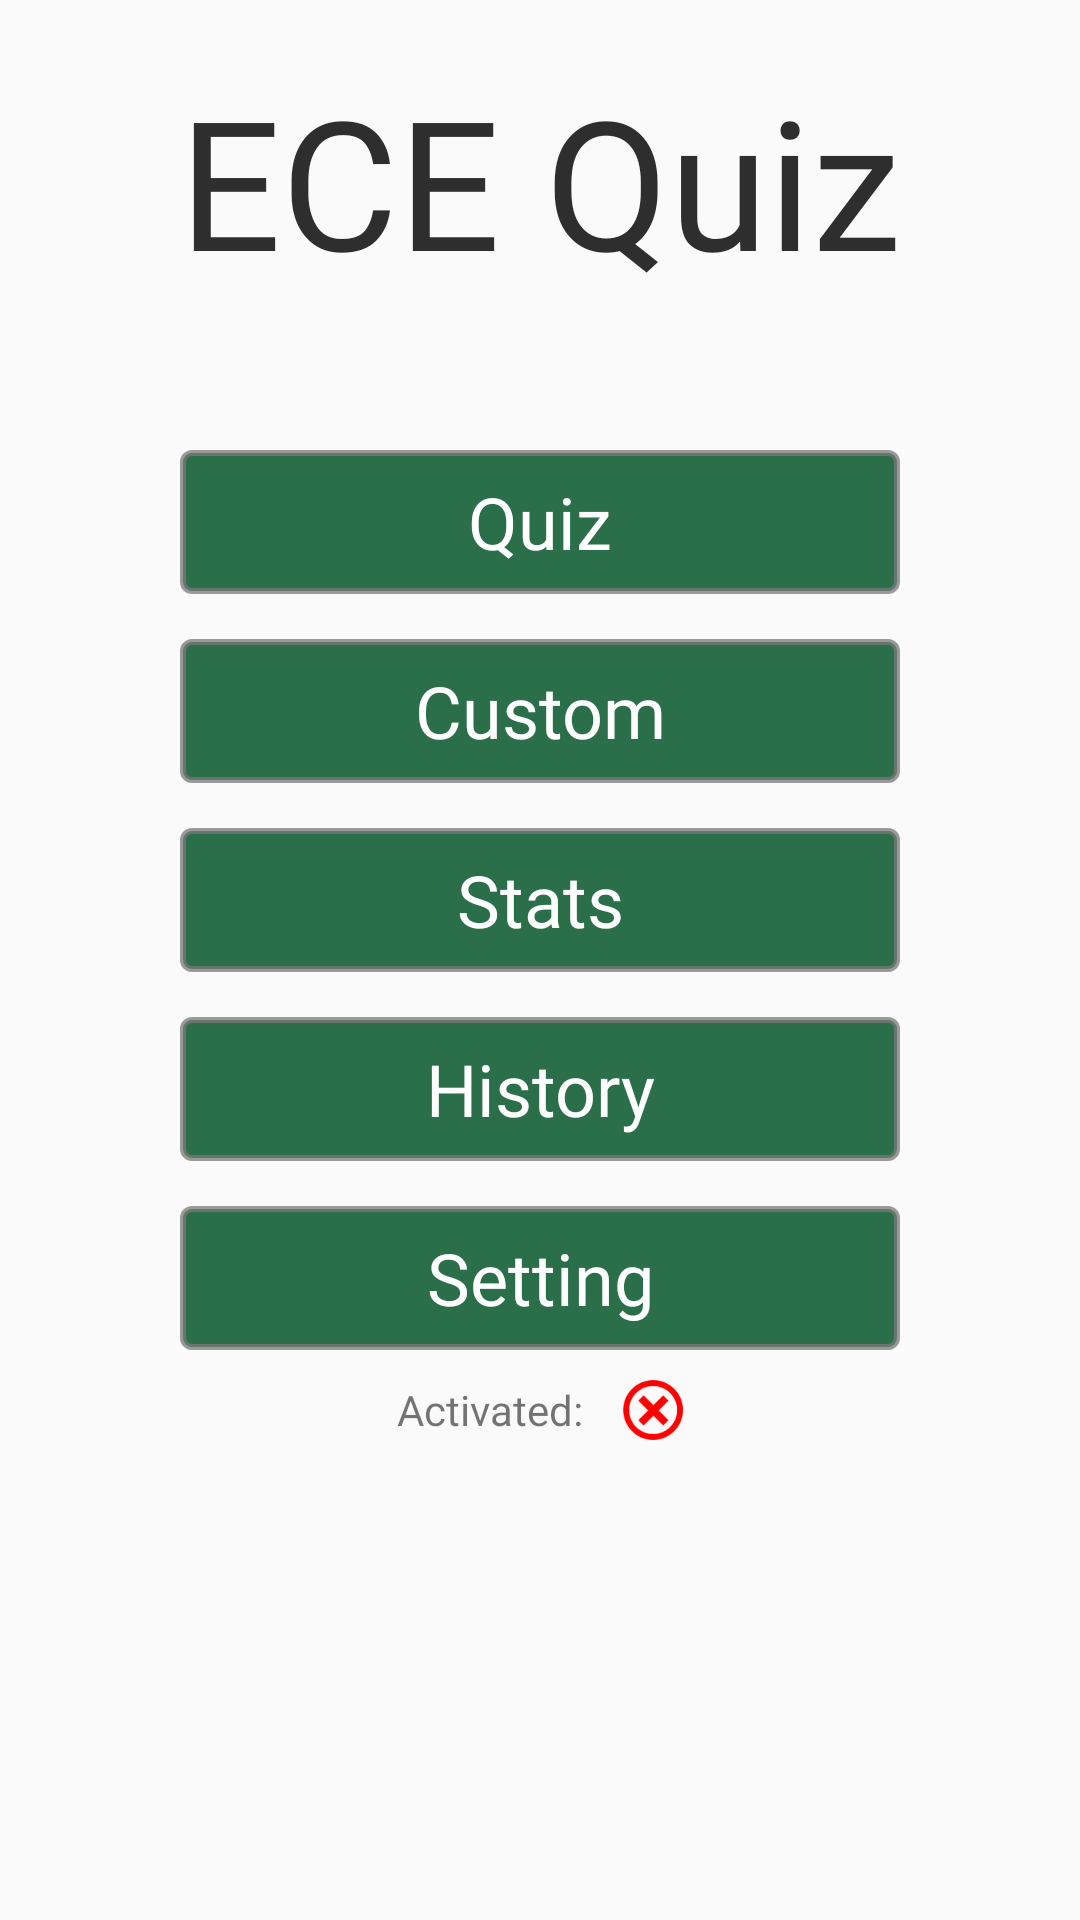

Icon click points for this 1080w x 1920h phone screenshot, format [x,y]:
incorrect: [653,1410]
